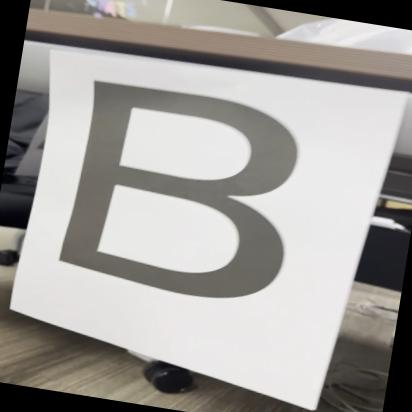seat: (38, 68, 322, 322)
